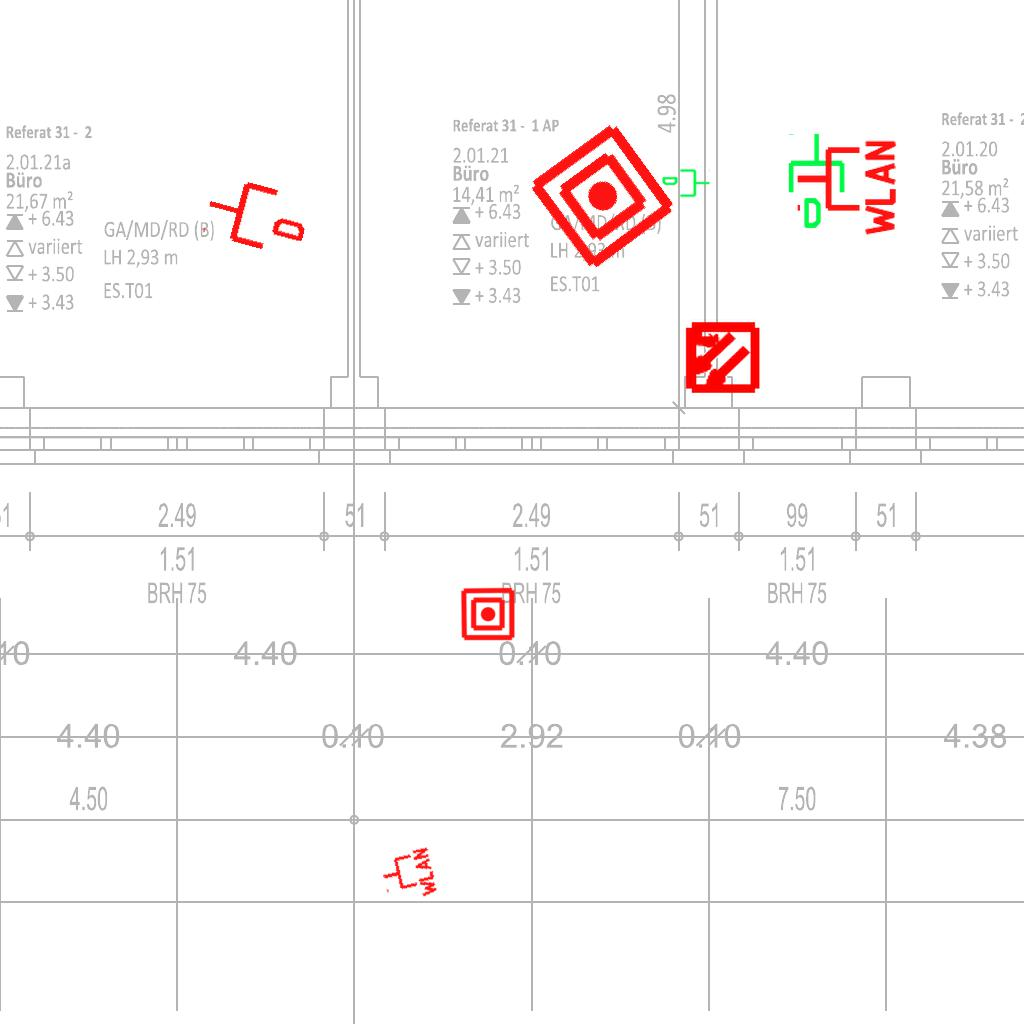Datenanschluss_einfach: (199, 169, 314, 263), (784, 131, 853, 231), (661, 167, 711, 201)
NAM-Nichtautomatischer_Melder: (523, 117, 682, 276), (460, 586, 516, 642)
OT_Multisensormelder_(Kombination_RMO_WMD): (664, 301, 777, 414)
WLAN: (793, 136, 898, 240), (376, 844, 440, 908)
